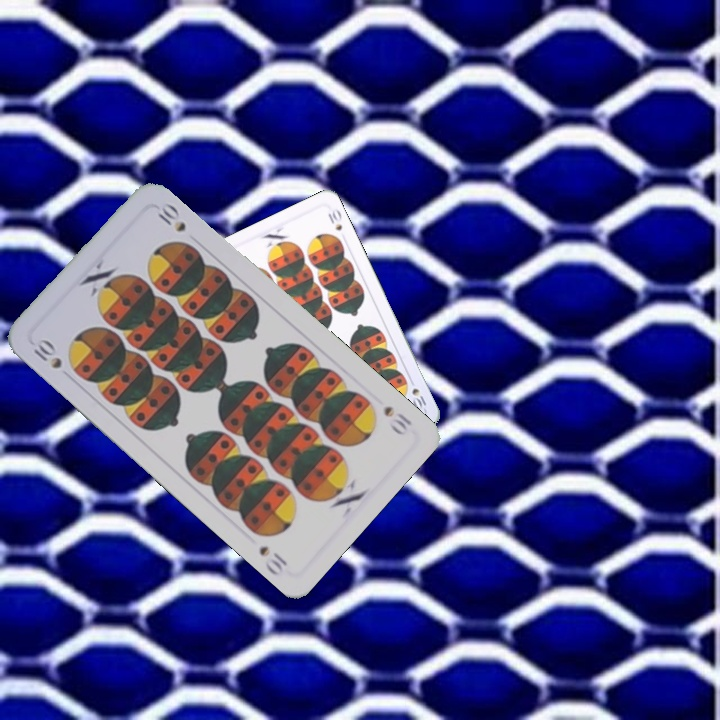S10: (29, 333, 65, 372), (379, 402, 415, 439), (405, 374, 429, 413)
